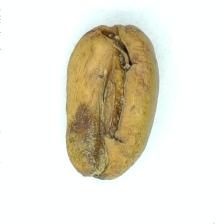NG: (67, 29, 138, 174)
